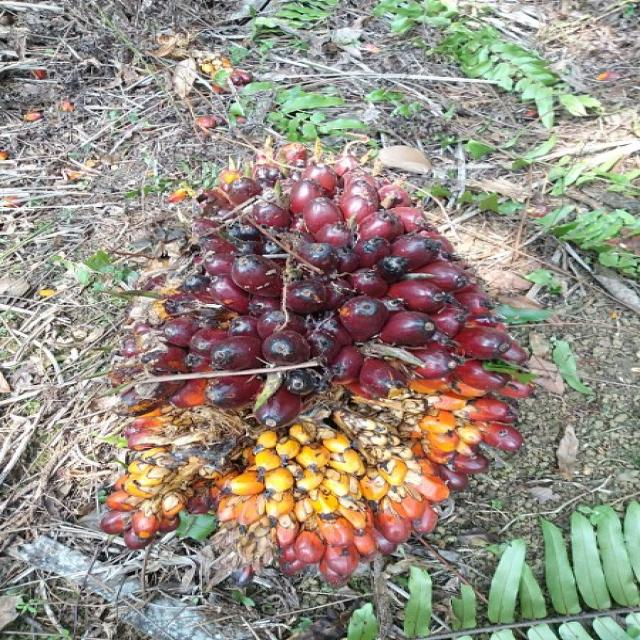fraksi 1: (89, 152, 518, 574)
